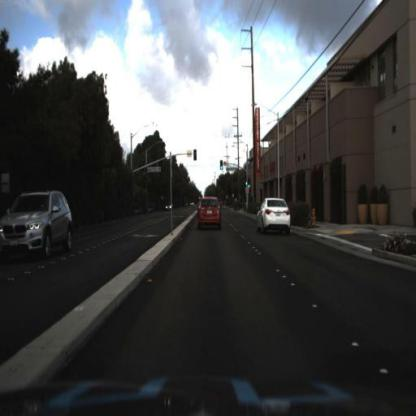car: (0, 191, 75, 258), (189, 188, 231, 236), (256, 192, 293, 240)
trafficLight-Green: (216, 156, 226, 176), (248, 183, 252, 195), (244, 178, 248, 189)
